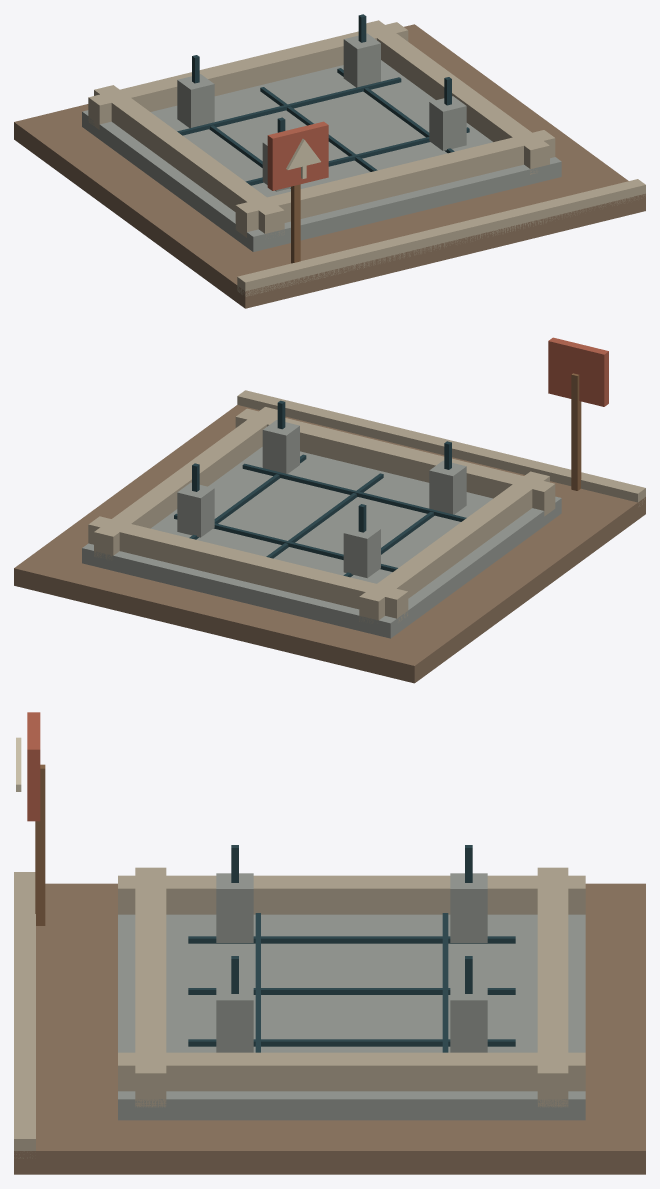
File: park-sunrise-foundation.glb
The picture shows the model from 3 angles, top to bottom: view 1: azimuth 30°, elevation 25°; view 2: azimuth 150°, elevation 25°; view 3: azimuth 270°, elevation 25°; orthographic projection. The views are drawn at different scales.
Visible parts, largest first — view 1: park; view 2: park; view 3: park.
Boxes of the visible parts, box(x1,y1,x2,y2) form: park: box(14, 14, 645, 308); park: box(14, 337, 645, 683); park: box(14, 712, 645, 1174).
Size of the model in its own units: 2.88 by 1.09 by 2.88.
